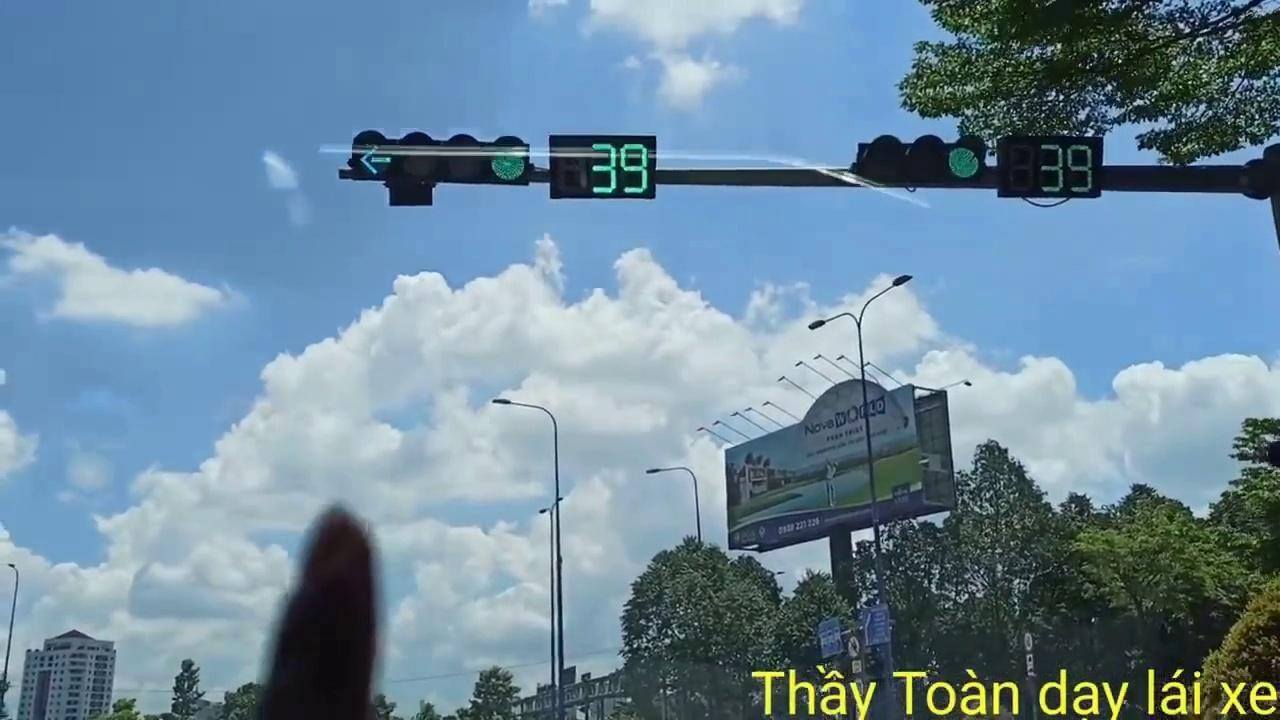Biển phụ: (1025, 653, 1035, 677)
Chỉ hướng đường: (863, 602, 891, 648)
Cấm xe máy: (846, 634, 862, 660)
Làn đường cho từng xe: (819, 615, 844, 660)
